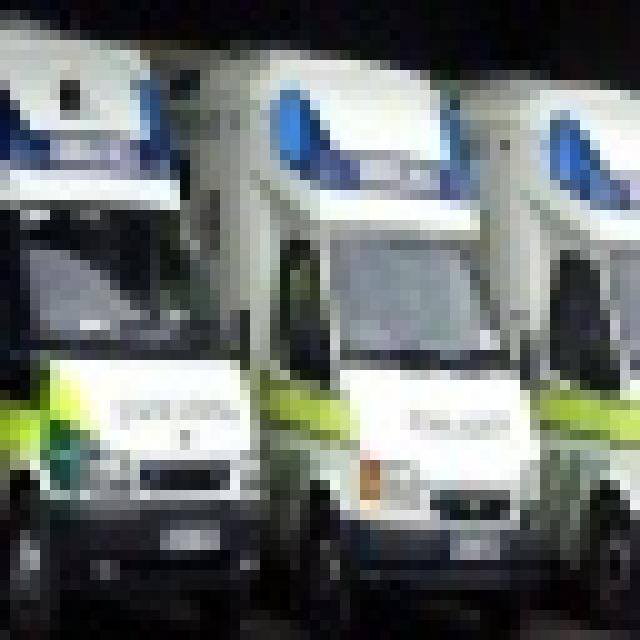Ambulance: (266, 81, 534, 574)
